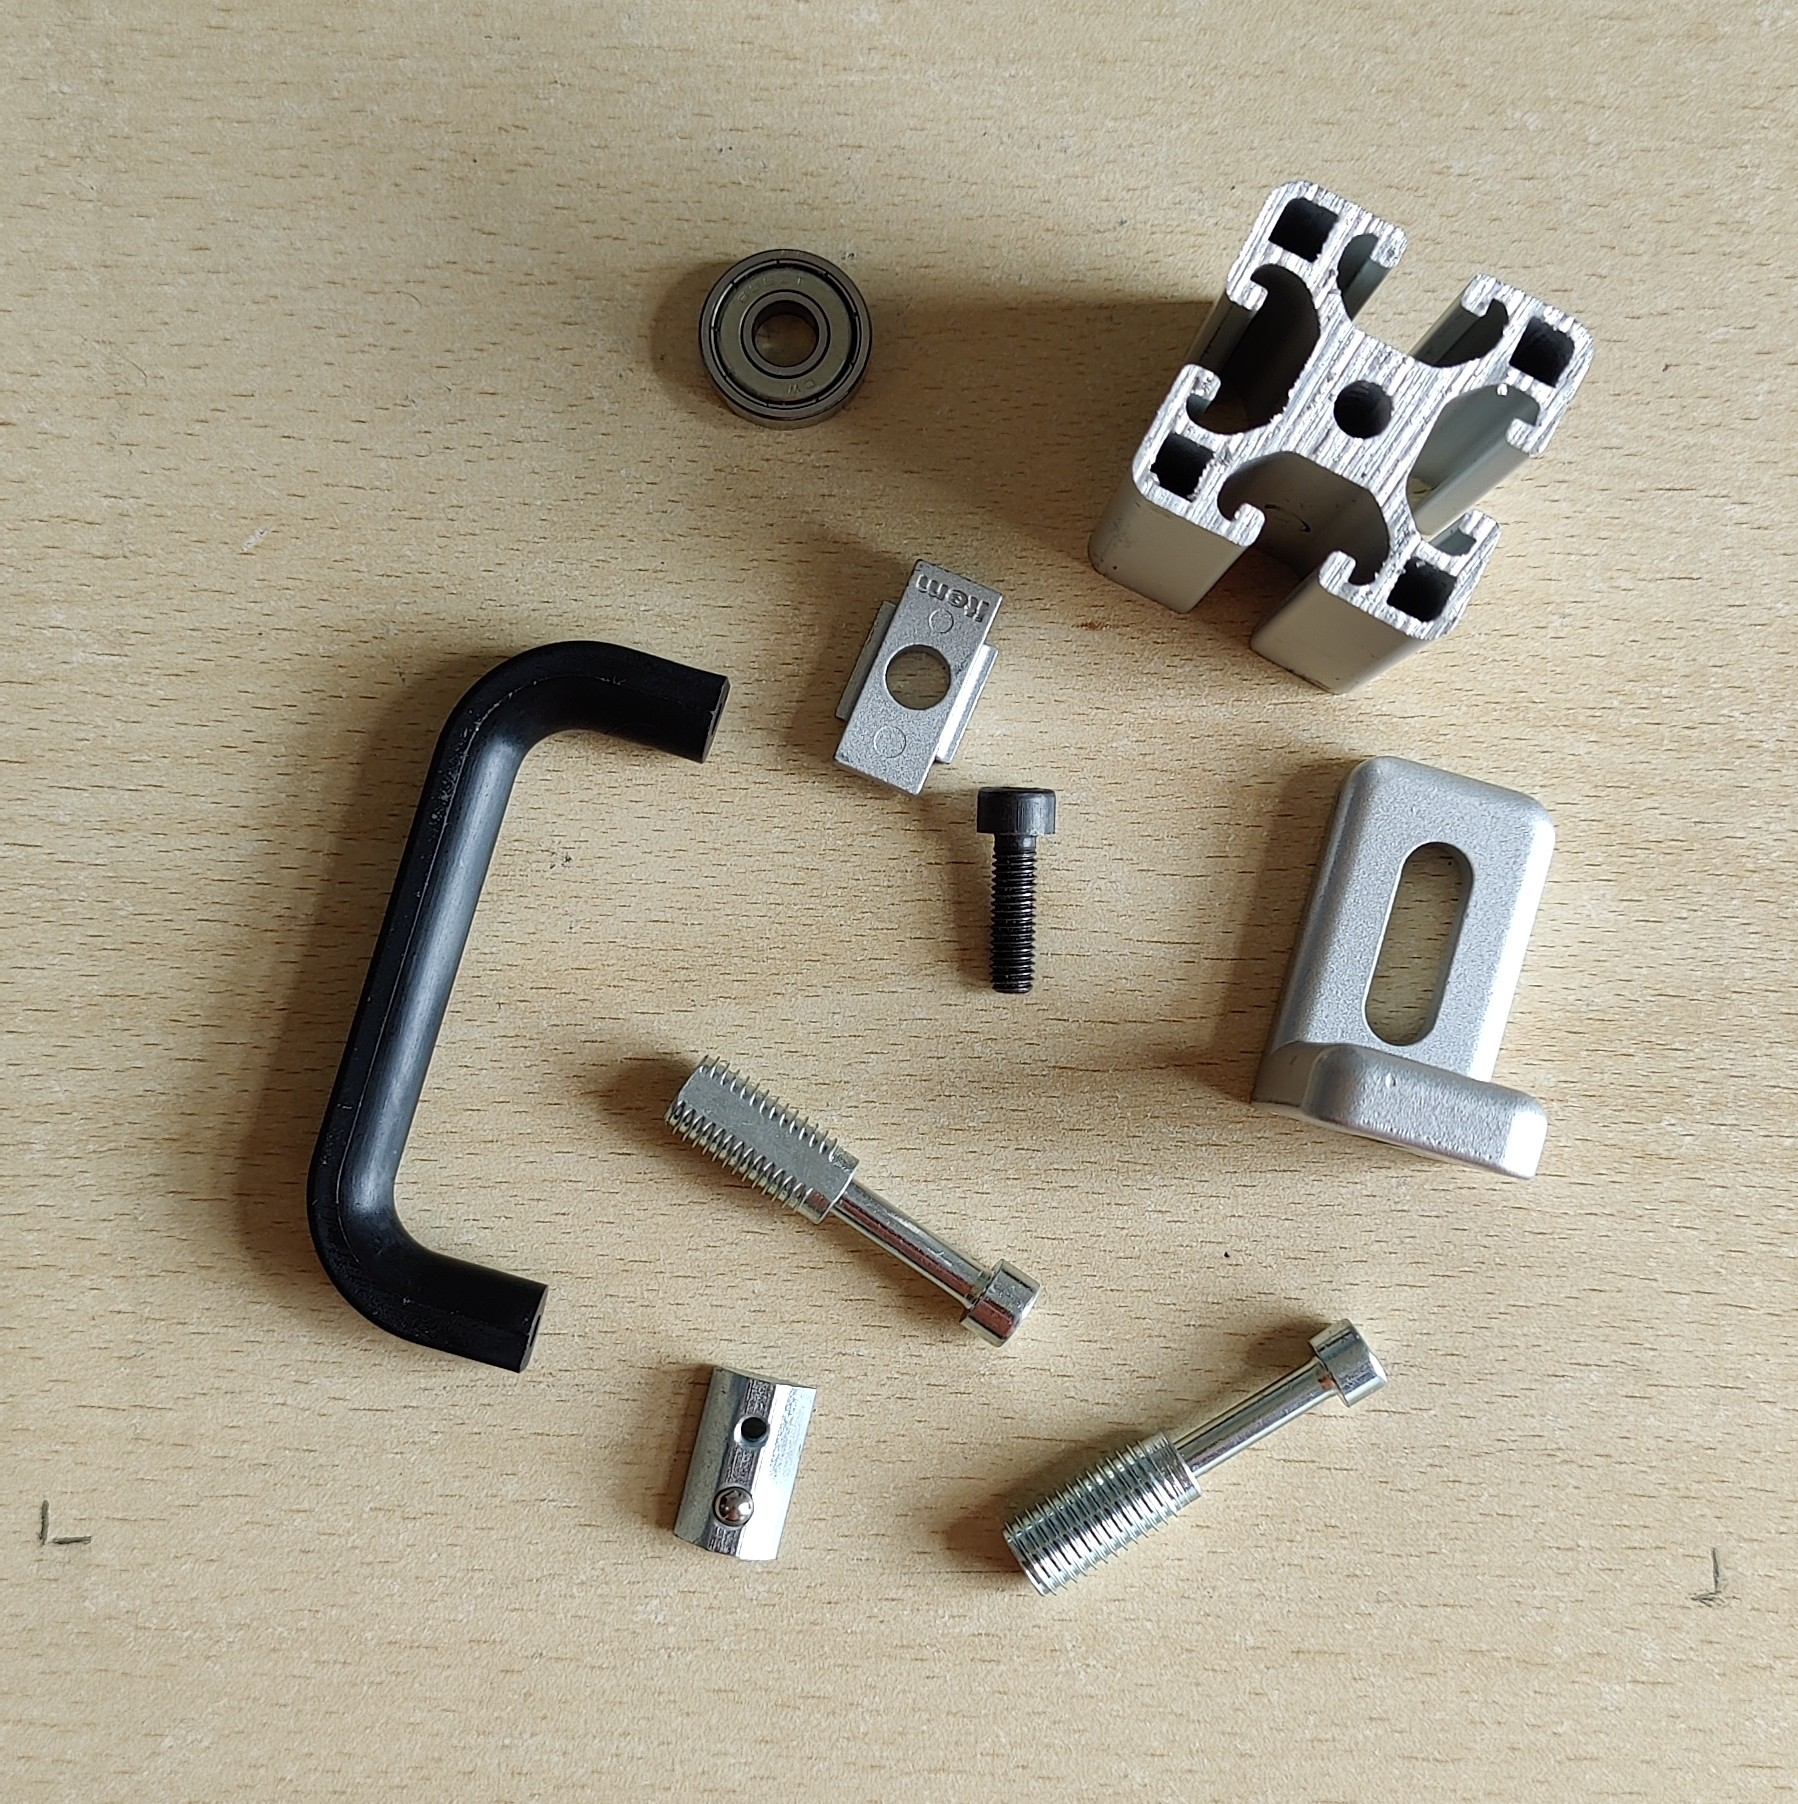Aluminium Extension: (1088, 178, 1592, 698)
Ball Bearing: (695, 245, 874, 431)
Multiwinkel: (1248, 752, 1559, 1183)
Pull Handle: (301, 639, 733, 1378)
Shoulder Socket Head Cap Screw: (660, 1048, 1047, 1350), (998, 1313, 1395, 1602)
Socket Head Cap Screw: (973, 780, 1059, 996)
T Nut Square: (827, 551, 1006, 802)
T Spring Nut: (670, 1365, 817, 1565)
